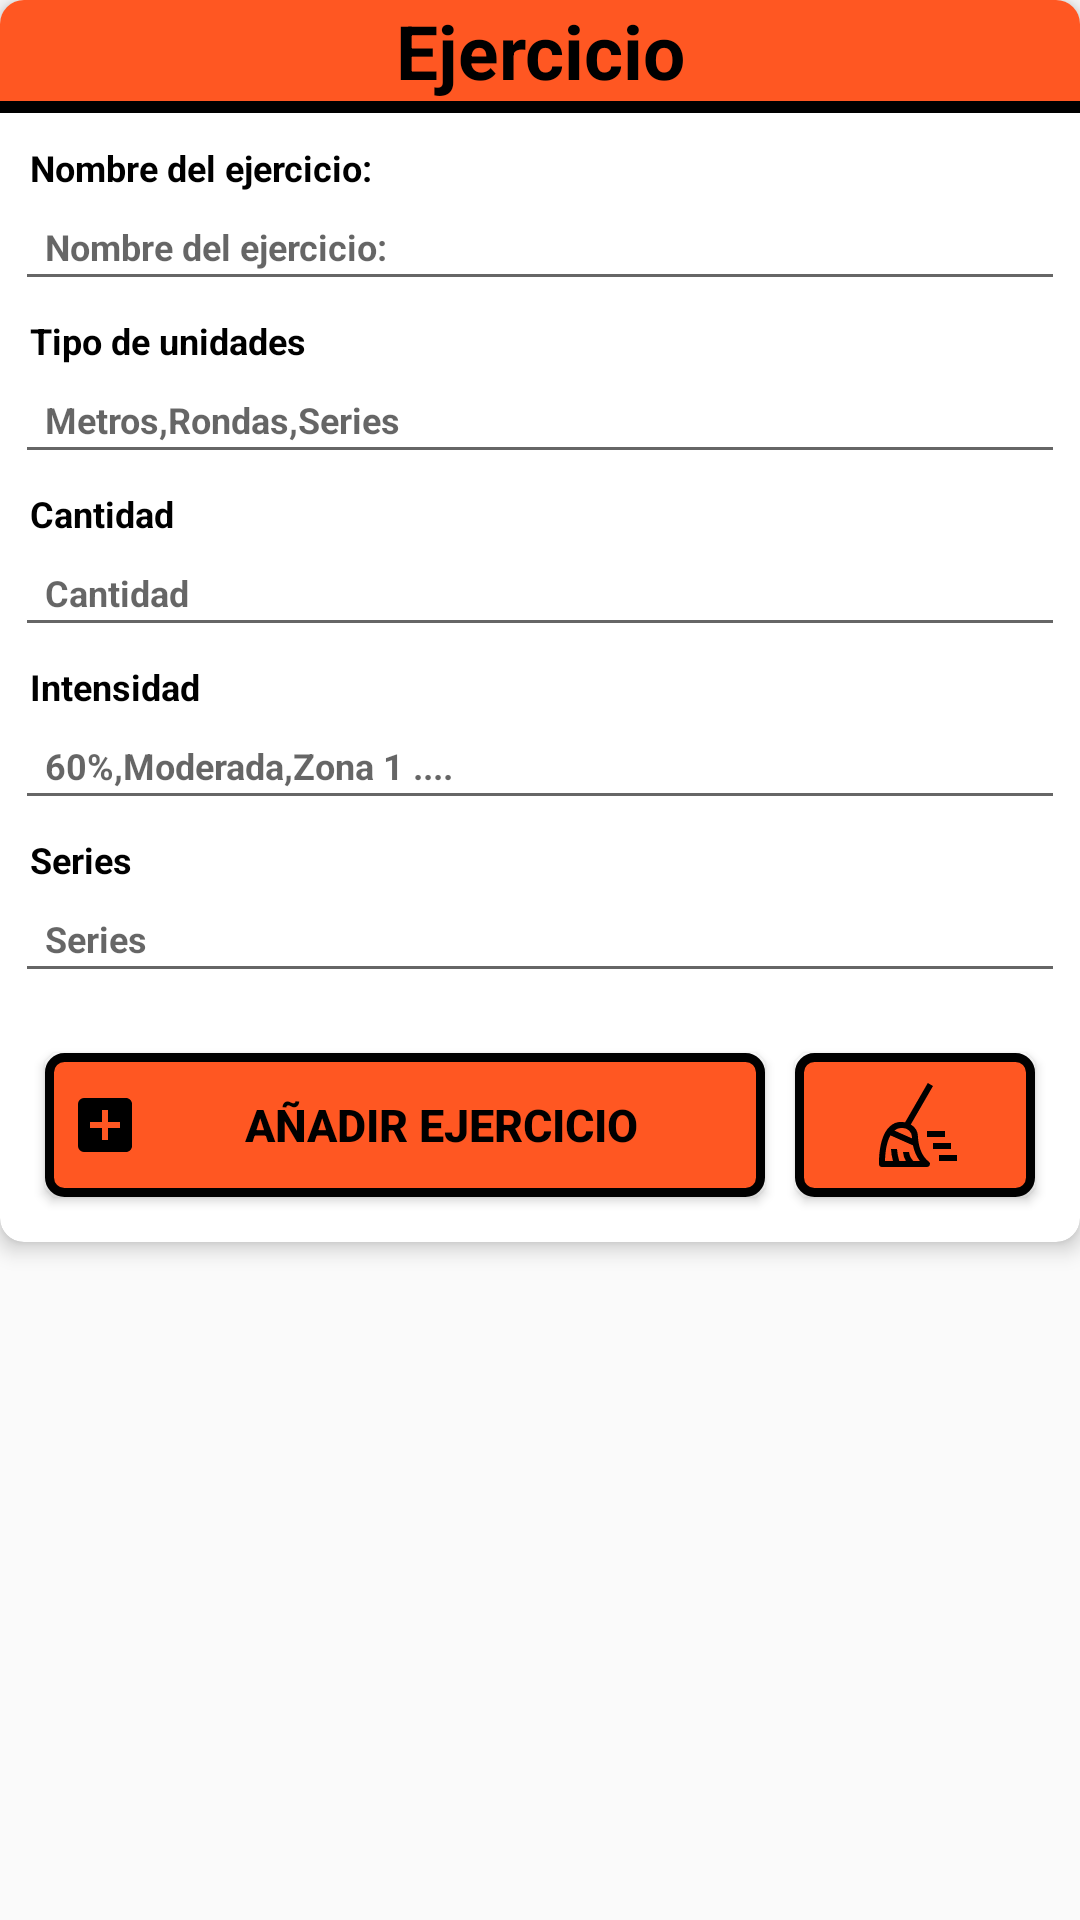

Locate icon controls on the screen. Image size 1080w x 1920h, boxes as (x1, y1, x2, y2).
clean: (795, 1053, 1035, 1197)
